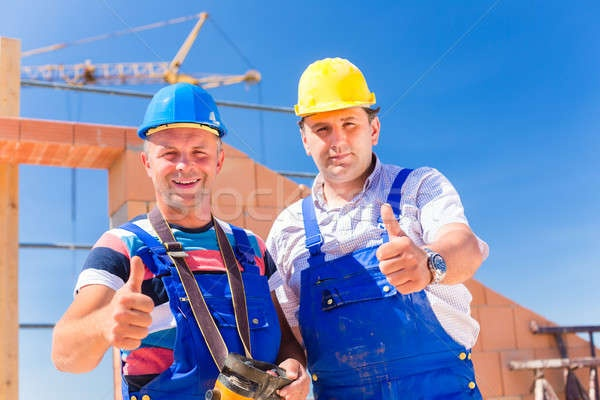blue: (136, 81, 230, 208)
yellow: (292, 56, 384, 186)
